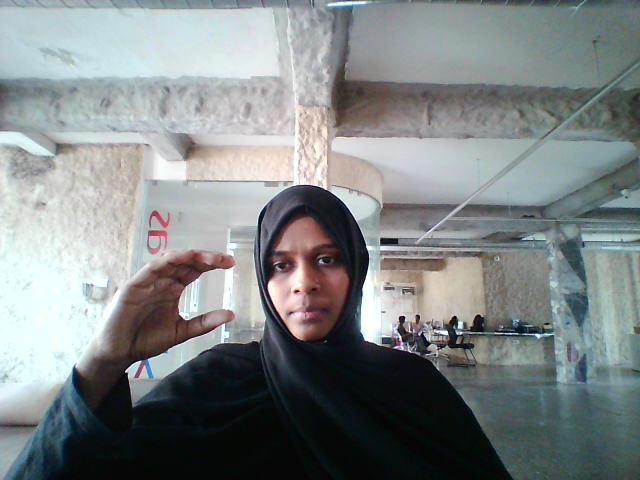NO: (68, 219, 256, 377)
